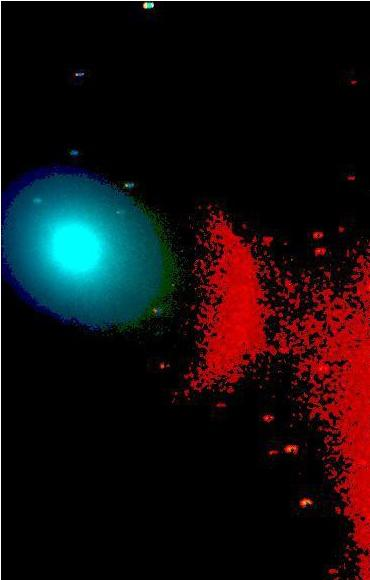star: (268, 335, 298, 365)
